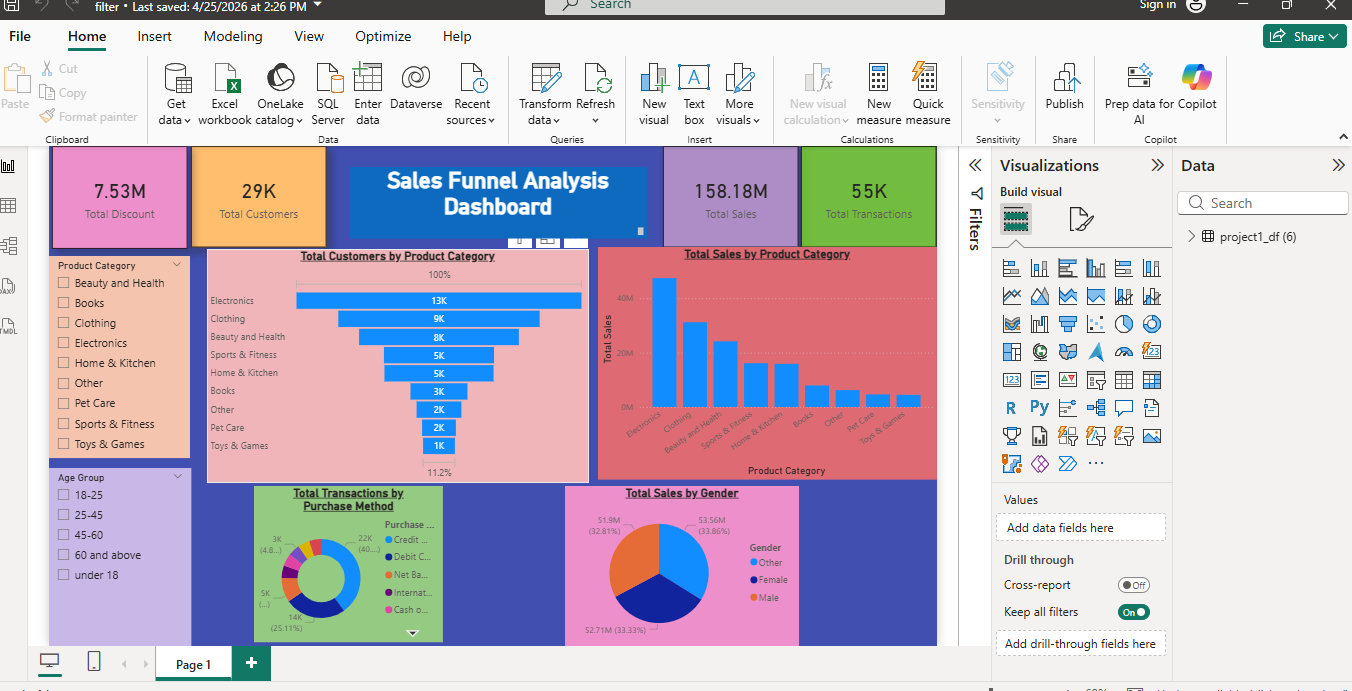

Layout of this report page (visuals, bound fields, positions):
{"tool":"powerbi","page":{"name":"Page 1","canvas":[1280,720],"ordinal":0},"visuals":[{"type":"card","fields":{"Values":["project1_df (6).Total Customers"]},"box":[204.6,0,195.4,146.2],"z":1},{"type":"card","fields":{"Values":["project1_df (6).Total Discount"]},"box":[4.6,0,195.4,147.7],"z":2},{"type":"card","fields":{"Values":["project1_df (6).Total Sales"]},"box":[884.6,0,195.4,146.2],"z":3},{"type":"card","fields":{"Values":["project1_df (6).Total Transactions"]},"box":[1083.1,0,195.4,146.2],"z":4},{"type":"funnel","fields":{"Category":["project1_df (6).Product Category"],"Y":["project1_df (6).Total Customers"]},"box":[227.7,147.7,549.2,336.9],"z":5},{"type":"clusteredColumnChart","fields":{"Category":["project1_df (6).Product Category"],"Y":["project1_df (6).Total Sales"]},"box":[790.8,146.2,487.7,335.4],"z":7},{"type":"pieChart","fields":{"Category":["project1_df (6).Gender"],"Y":["project1_df (6).Total Sales"]},"box":[743.1,489.2,336.9,230.8],"z":8},{"type":"donutChart","fields":{"Category":["project1_df (6).Purchase Method"],"Y":["project1_df (6).Total Transactions"]},"box":[295.4,489.2,272.3,224.6],"z":9},{"type":"slicer","fields":{"Values":["project1_df (6).Product Category"]},"box":[0,158.5,203.1,290.8],"z":11},{"type":"slicer","fields":{"Values":["project1_df (6).Age Group"]},"box":[0,463.1,204.6,256.9],"z":12},{"type":"textbox","title":"Sales Funnel Analysis Dashboard","box":[432.3,30.8,429.2,103.1],"z":13}]}

Visuals, with their boxes on the page's 1280x720 design canvas (x1, y1, x2, y2). These are canvas units, not pixel positions in the 1352x691 screenshot, which may show the page scaled, cropped or inside an application window:
card - project1_df (6).Total Customers: Rect(205, 0, 400, 146)
card - project1_df (6).Total Discount: Rect(5, 0, 200, 148)
card - project1_df (6).Total Sales: Rect(885, 0, 1080, 146)
card - project1_df (6).Total Transactions: Rect(1083, 0, 1278, 146)
funnel - project1_df (6).Product Category x project1_df (6).Total Customers: Rect(228, 148, 777, 485)
clusteredColumnChart - project1_df (6).Product Category x project1_df (6).Total Sales: Rect(791, 146, 1278, 482)
pieChart - project1_df (6).Gender x project1_df (6).Total Sales: Rect(743, 489, 1080, 720)
donutChart - project1_df (6).Purchase Method x project1_df (6).Total Transactions: Rect(295, 489, 568, 714)
slicer - project1_df (6).Product Category: Rect(0, 158, 203, 449)
slicer - project1_df (6).Age Group: Rect(0, 463, 205, 720)
"Sales Funnel Analysis Dashboard" textbox: Rect(432, 31, 862, 134)
